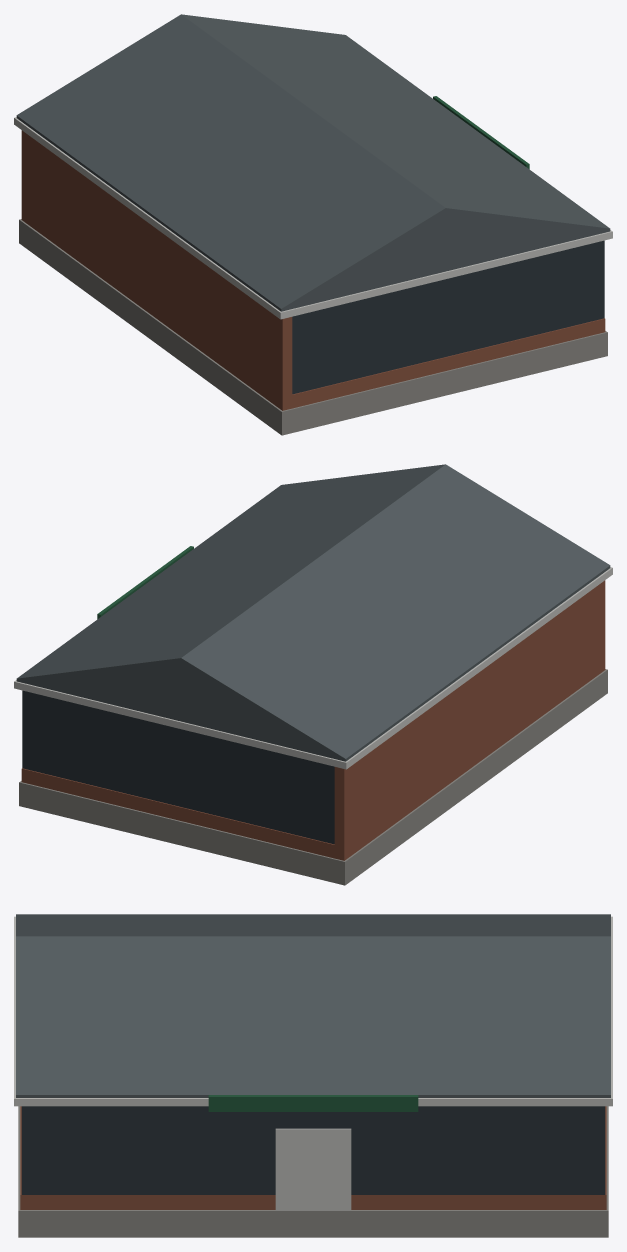
File: SM_Prop_cafe_building_10_LOD2.glb
3 renders of one model, top to bottom at view 1: azimuth 30°, elevation 25°; view 2: azimuth 150°, elevation 25°; view 3: azimuth 270°, elevation 25°, orthographic. The views are drawn at different scales.
Parts seen in each view (by area): view 1: SM_Prop_cafe_building_10_LOD2; view 2: SM_Prop_cafe_building_10_LOD2; view 3: SM_Prop_cafe_building_10_LOD2.
Part boxes in pixels (<box>): SM_Prop_cafe_building_10_LOD2: <box>14,14,612,435</box>; SM_Prop_cafe_building_10_LOD2: <box>14,464,612,885</box>; SM_Prop_cafe_building_10_LOD2: <box>14,914,612,1237</box>.
Bounding box in the file's own units: 10.4 × 5.58 × 14.3.
